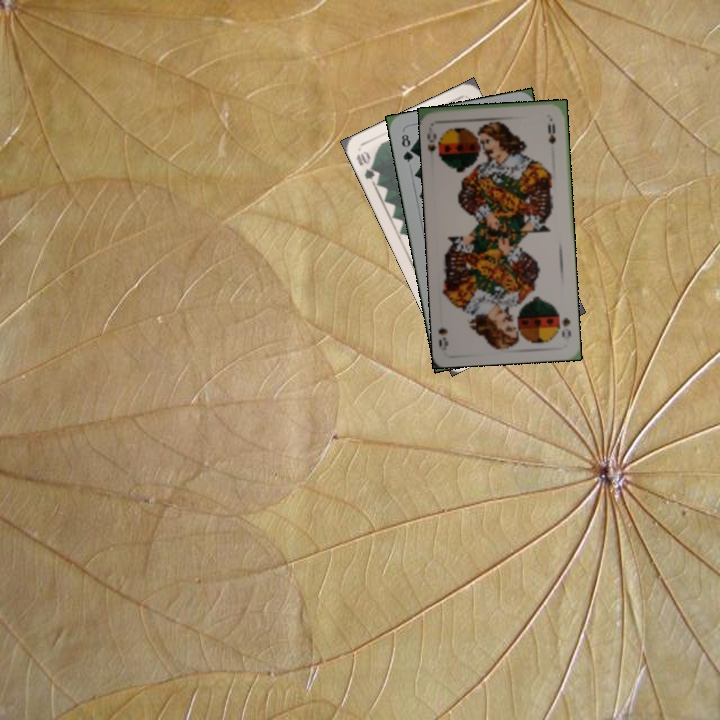G10: (352, 147, 382, 187)
G8: (397, 130, 416, 165)
SO: (423, 129, 444, 163), (558, 314, 573, 340)
